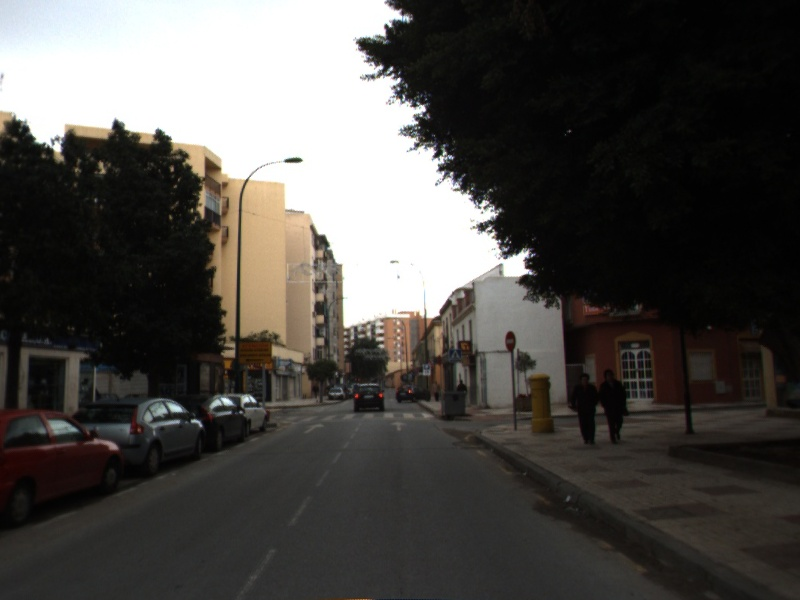STRAIGHT: (301, 421, 327, 435), (388, 419, 409, 433)
